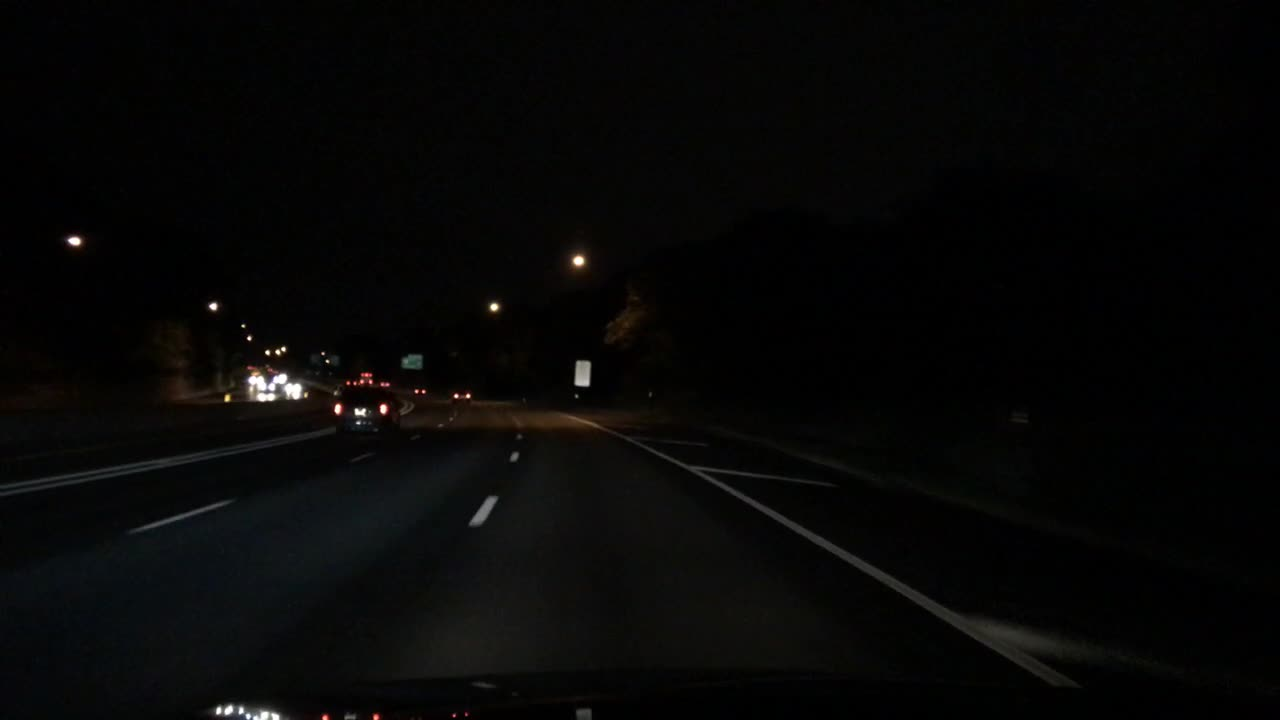car: (331, 381, 401, 439), (450, 387, 475, 405), (283, 381, 305, 401), (255, 376, 275, 390), (242, 370, 257, 385), (412, 384, 427, 399), (377, 378, 392, 390)
traffic sign: (575, 359, 589, 384), (401, 353, 420, 369)
